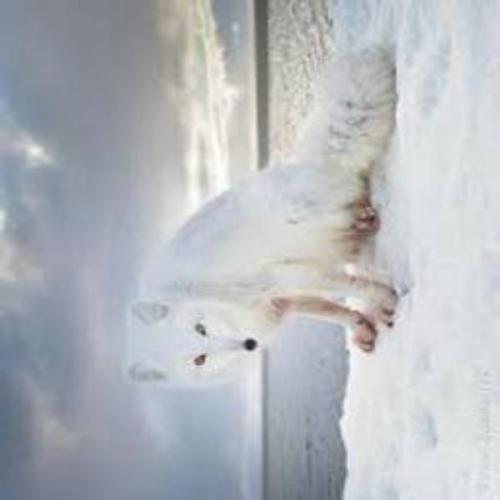arctic_fox-endangered: (126, 43, 398, 387)
